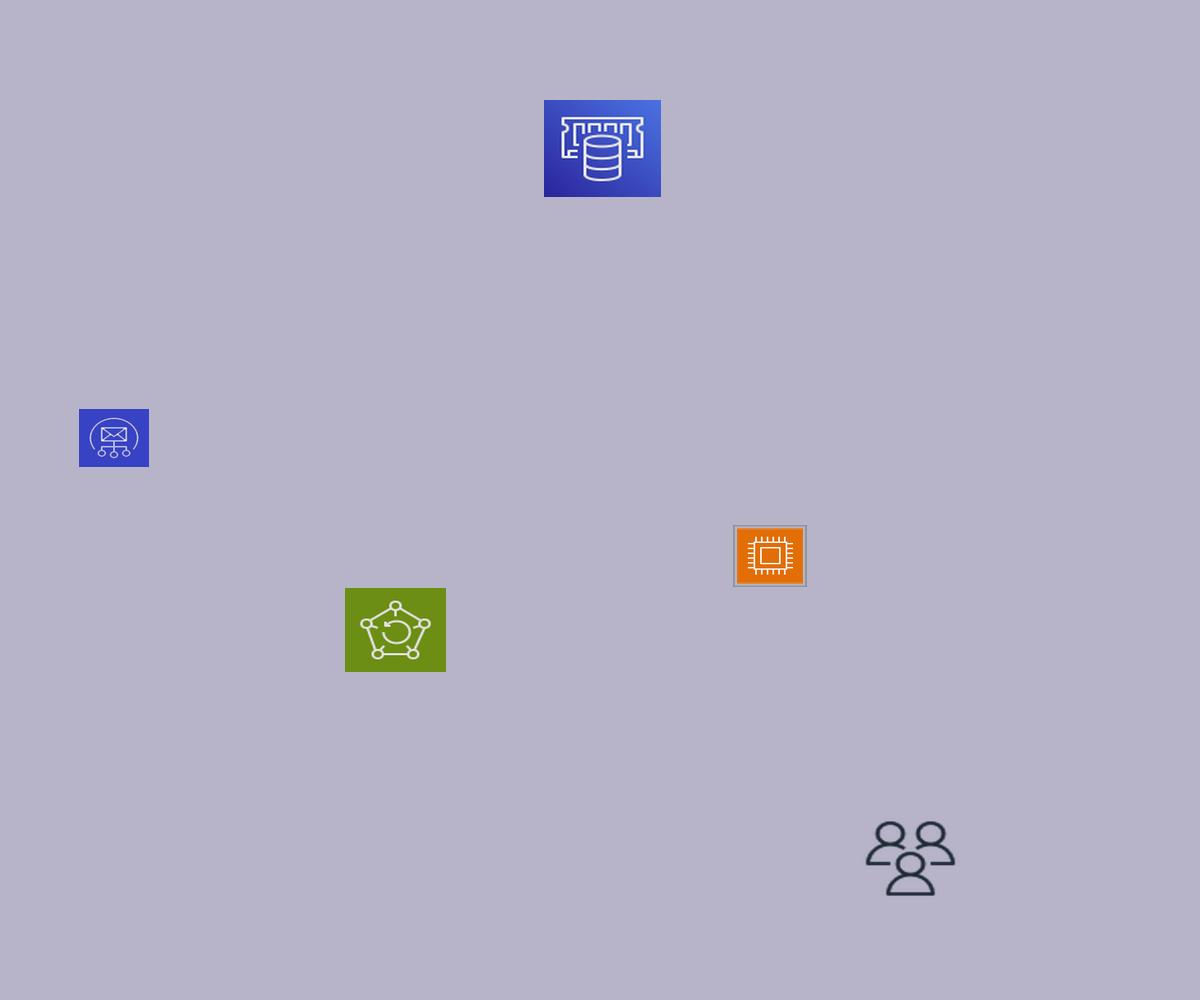AWS-Backup: (345, 588, 446, 672)
AWS-Category_Compute: (733, 525, 807, 587)
AWS-ElastiCache: (544, 100, 661, 197)
AWS-Res_Users: (862, 818, 959, 899)
AWS-Simple-Email-Service: (79, 409, 149, 467)
